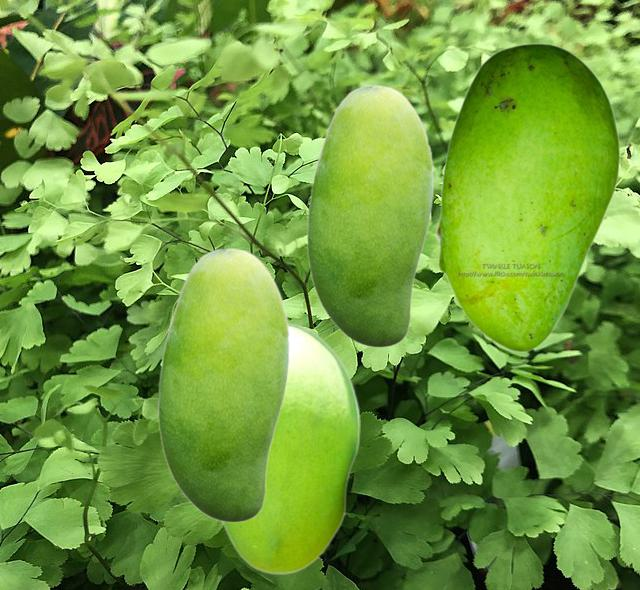green_mango: (435, 42, 620, 352), (157, 247, 289, 522), (219, 322, 359, 573), (306, 84, 433, 347)
